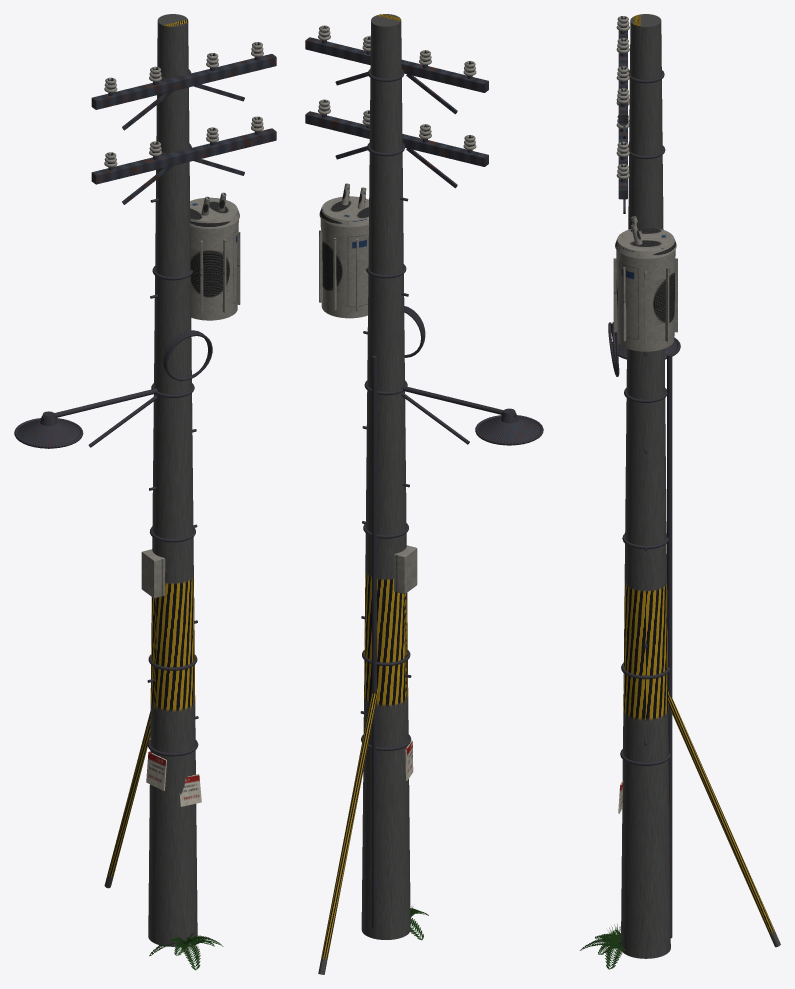
The model's file is UtilityPole_Denchu.fbx.
The picture shows the model from 3 angles, left to right: view 1: azimuth 30°, elevation 25°; view 2: azimuth 150°, elevation 25°; view 3: azimuth 270°, elevation 25°; orthographic projection. The views are drawn at different scales.
Parts seen in each view (by area): view 1: UtilityPole_Denchu; view 2: UtilityPole_Denchu; view 3: UtilityPole_Denchu.
Part boxes in pixels (box(x1,y1,x2,y2)): UtilityPole_Denchu: box(14, 14, 276, 970); UtilityPole_Denchu: box(305, 14, 543, 974); UtilityPole_Denchu: box(580, 14, 780, 969).
Size of the model in its own units: 2.4 by 8.71 by 1.75.
